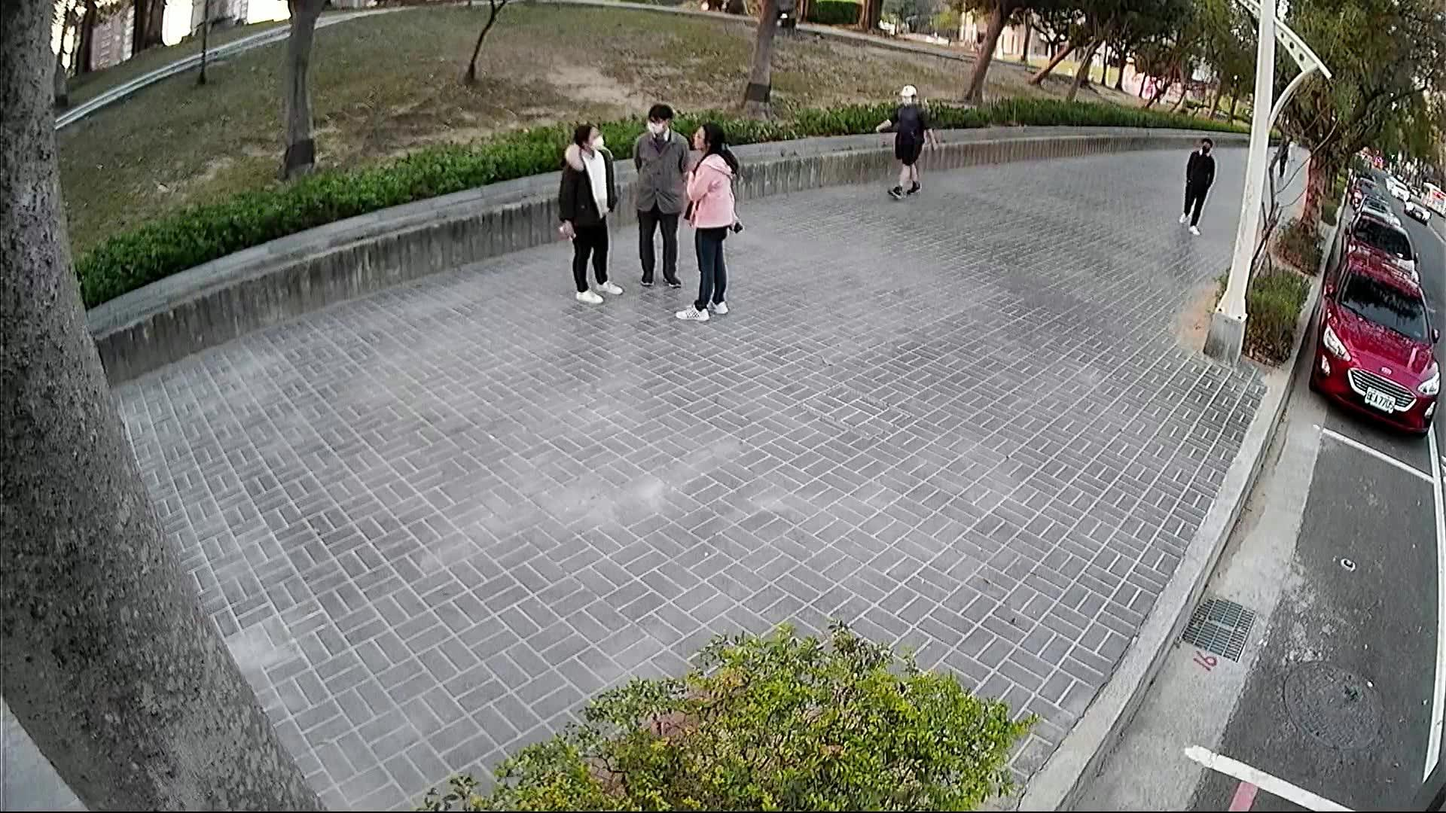person: (670, 116, 744, 324), (549, 114, 627, 309), (625, 98, 693, 291), (870, 83, 941, 196), (1174, 130, 1222, 237)
